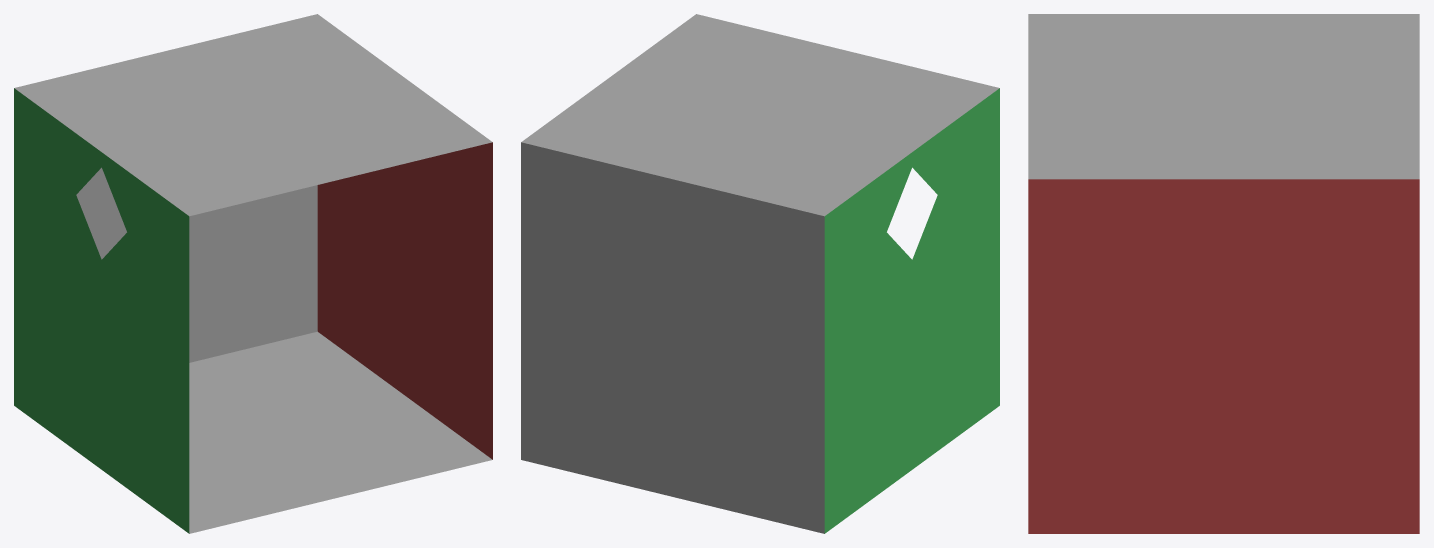
The model's file is cornell3.glb.
3 renders of one model, left to right at view 1: azimuth 30°, elevation 25°; view 2: azimuth 150°, elevation 25°; view 3: azimuth 270°, elevation 25°, orthographic. The views are drawn at different scales.
Visible parts, largest first — view 1: Cornell; view 2: Cornell; view 3: Cornell.
Boxes of the visible parts, box(x1,y1,x2,y2) form: Cornell: box(14, 14, 492, 533); Cornell: box(521, 14, 999, 533); Cornell: box(1028, 14, 1419, 533).
Size of the model in its own units: 2 by 2 by 2.
3 materials, 3 textured.
